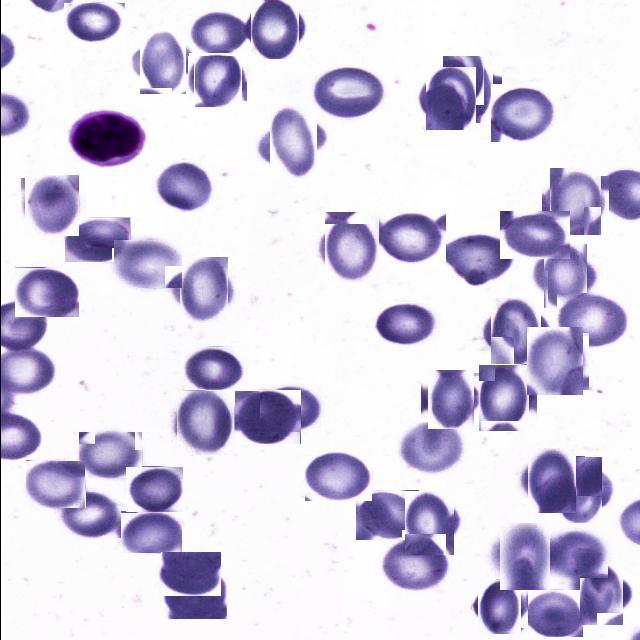leukocyte: (65, 108, 149, 168)
red blood cell: (374, 210, 445, 266), (172, 390, 236, 452), (523, 330, 585, 393), (556, 293, 627, 348), (310, 67, 385, 119), (320, 216, 382, 278), (436, 236, 516, 284), (397, 420, 466, 474), (262, 112, 322, 174), (490, 84, 554, 142), (527, 533, 607, 578), (494, 526, 554, 586), (234, 390, 300, 444), (381, 537, 447, 591), (545, 172, 604, 232), (438, 60, 497, 119), (160, 567, 226, 619), (473, 370, 532, 428), (485, 302, 544, 360), (113, 239, 182, 288), (22, 176, 80, 234), (400, 494, 458, 552), (499, 211, 569, 259), (304, 451, 371, 501), (174, 261, 231, 319), (14, 267, 79, 317), (522, 452, 580, 508), (355, 490, 418, 540), (550, 462, 606, 518), (246, 0, 302, 56), (134, 34, 190, 90), (422, 70, 478, 126), (154, 160, 214, 212), (78, 431, 142, 478), (58, 490, 120, 538), (64, 217, 130, 262), (259, 385, 322, 432), (538, 249, 592, 303), (520, 590, 582, 637), (373, 302, 440, 345), (25, 460, 85, 508), (190, 50, 243, 104), (117, 510, 182, 554), (424, 372, 476, 426), (183, 346, 246, 390), (574, 568, 627, 620), (186, 12, 248, 56), (125, 466, 183, 512), (160, 552, 220, 596), (474, 582, 524, 632), (63, 3, 124, 42)
